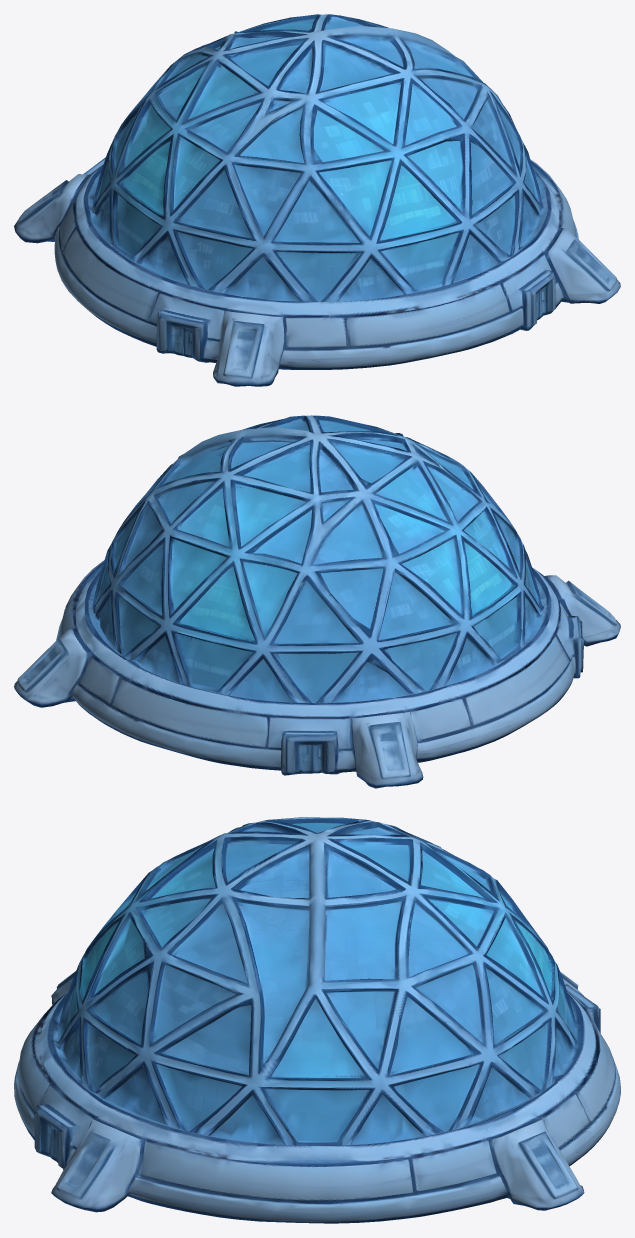
File: building-synthesis.glb
The picture shows the model from 3 angles, top to bottom: view 1: azimuth 30°, elevation 25°; view 2: azimuth 150°, elevation 25°; view 3: azimuth 270°, elevation 25°; orthographic projection. The views are drawn at different scales.
Parts seen in each view (by area): view 1: tripo_node_649787db-2232-4fc4-a043-e55882b0f032; view 2: tripo_node_649787db-2232-4fc4-a043-e55882b0f032; view 3: tripo_node_649787db-2232-4fc4-a043-e55882b0f032.
Boxes of the visible parts, x1,y1,x2,y2 form: tripo_node_649787db-2232-4fc4-a043-e55882b0f032: (14, 14, 620, 386); tripo_node_649787db-2232-4fc4-a043-e55882b0f032: (14, 415, 620, 788); tripo_node_649787db-2232-4fc4-a043-e55882b0f032: (14, 817, 620, 1223).
Size of the model in its own units: 0.9804 by 0.4749 by 0.9792.
1 material, 1 textured.
